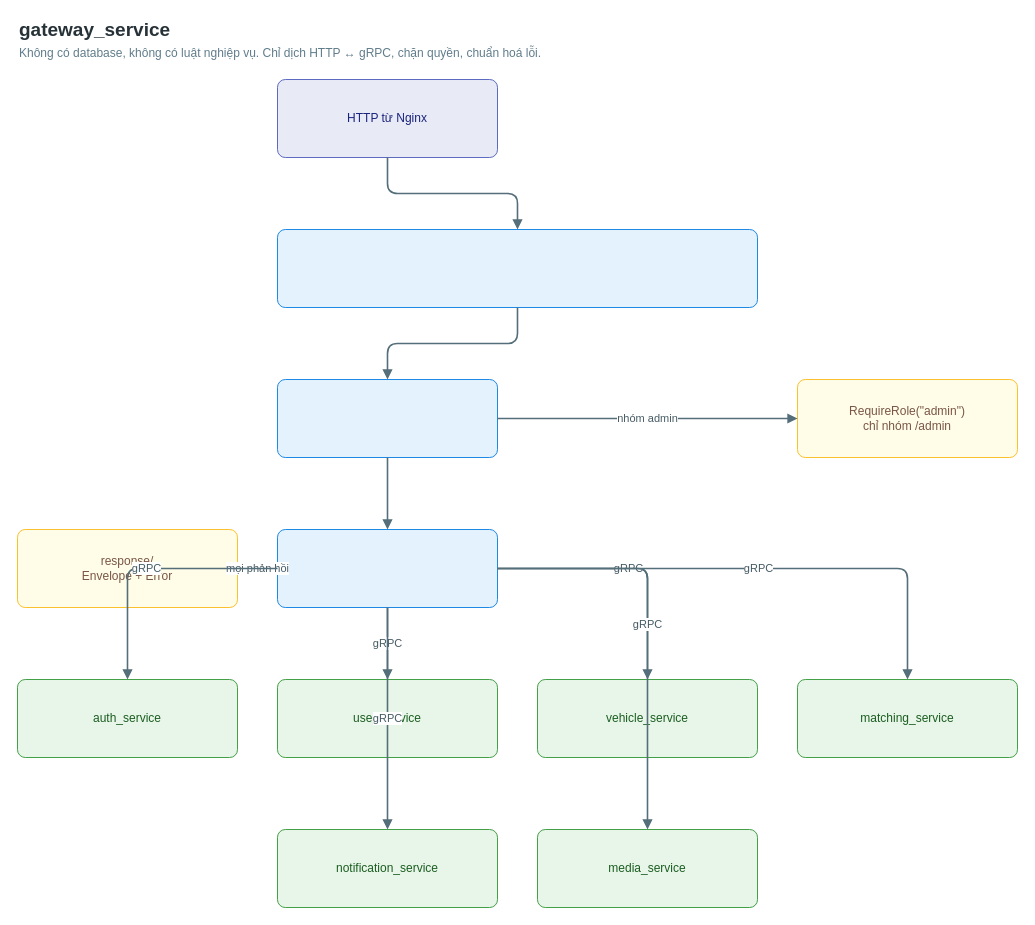
Some shapes in this 1035 by 925 pixel diagram are drawn without their labels. Here are the shapes that lost their labels. From the top down, the box of each, then its label:
(276, 228, 758, 308): Chuỗi middleware RequestID → Recovery → AccessLog → IdentityContext → ErrorGuard
(276, 378, 498, 458): delivery/http cây route /api/v1
(276, 528, 498, 608): controller/ bind JSON → gọi gRPC
